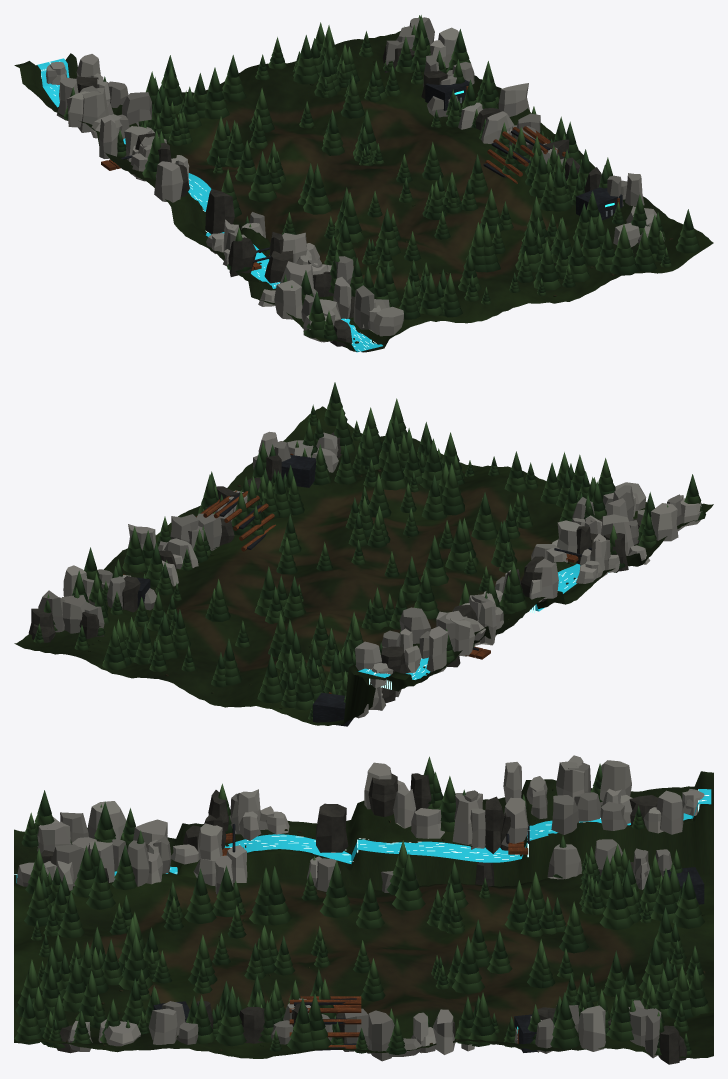
The model's file is world_0.glb.
3 views of the same model, one above another, from view 1: azimuth 30°, elevation 25°; view 2: azimuth 150°, elevation 25°; view 3: azimuth 270°, elevation 25° (orthographic). The views are drawn at different scales.
Visible parts, largest first — view 1: Flora / scattered miniatures, Terrain / sculpted relief, Cliffs / fractured strata, Ruins / abandoned machinery, Water / falls and currents; view 2: Flora / scattered miniatures, Terrain / sculpted relief, Cliffs / fractured strata, Ruins / abandoned machinery, Water / falls and currents; view 3: Terrain / sculpted relief, Flora / scattered miniatures, Cliffs / fractured strata, Water / falls and currents, Ruins / abandoned machinery.
Part boxes in pixels (x1,y1,x2,y2): Flora / scattered miniatures: (63, 15, 700, 340); Terrain / sculpted relief: (14, 31, 713, 352); Cliffs / fractured strata: (41, 17, 673, 346); Ruins / abandoned machinery: (101, 80, 622, 270); Water / falls and currents: (37, 58, 382, 352); Flora / scattered miniatures: (33, 382, 705, 720); Terrain / sculpted relief: (14, 406, 713, 725); Cliffs / fractured strata: (28, 431, 702, 718); Ruins / abandoned machinery: (123, 453, 591, 726); Water / falls and currents: (358, 563, 609, 689); Terrain / sculpted relief: (14, 771, 713, 1058); Flora / scattered miniatures: (14, 756, 710, 1055); Cliffs / fractured strata: (17, 755, 705, 1064); Water / falls and currents: (14, 789, 711, 882); Ruins / abandoned machinery: (153, 824, 704, 1052).
Bounding box in the file's own units: 9.61 × 2.31 × 12.7.
Materials: 15 (5 with a texture image).
